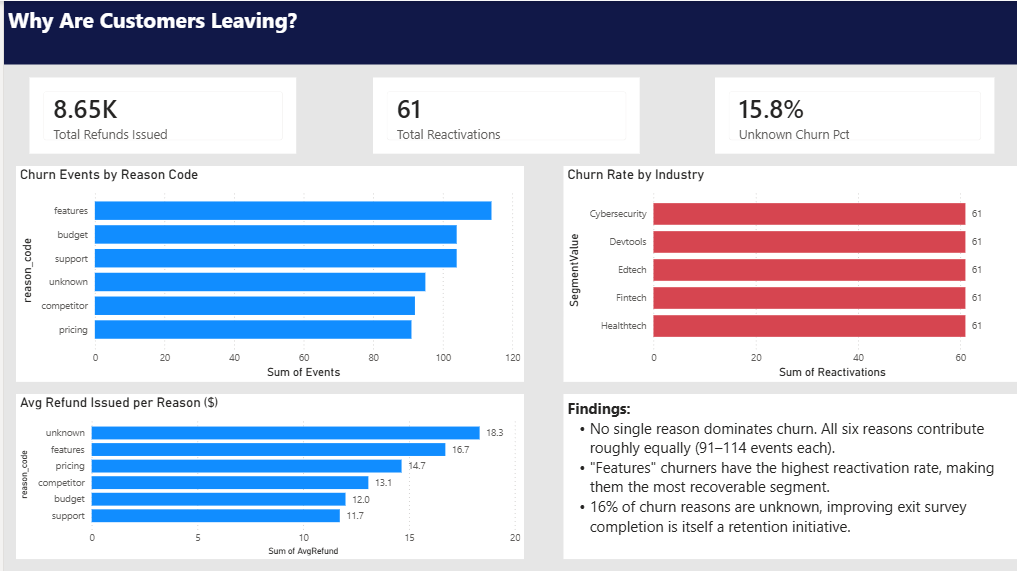

The page's visual inventory and layout, read from the dashboard file:
{"tool":"powerbi","page":{"name":"Churn Reasons","canvas":[1280,720],"ordinal":4},"visuals":[{"type":"textbox","box":[0,0,1280,80],"z":0},{"type":"clusteredBarChart","title":"Churn Events by Reason Code","fields":{"Category":["churn_reason_summary.reason_code"],"Y":["Sum(churn_reason_summary.Events)"]},"box":[16,208,640,272],"z":1000},{"type":"clusteredBarChart","title":"Churn Rate by Industry","fields":{"Category":["segment_summary.SegmentValue"],"Y":["Sum(churn_reason_summary.Reactivations)"]},"box":[704,208,576,272],"z":2000},{"type":"cardVisual","fields":{"Data":["churn_heatmap.Total Refunds Issued"]},"box":[32,96,336,96],"z":3000},{"type":"cardVisual","fields":{"Data":["churn_heatmap.Total Reactivations"]},"box":[464,96,336,96],"z":4000},{"type":"cardVisual","fields":{"Data":["churn_heatmap.Unknown Churn Pct"]},"box":[896,96,352,96],"z":5000},{"type":"clusteredBarChart","title":"Avg Refund Issued per Reason ($)","fields":{"Category":["churn_reason_summary.reason_code"],"Y":["Sum(churn_reason_summary.AvgRefund)"]},"box":[16,496,640,208],"z":6000},{"type":"textbox","box":[704,496,576,208],"z":7000}]}

Visuals, with their boxes in screenshot pixels (x1, y1, x2, y2), scaled from the page's 1280x720 canvas onto the 1017x571 screenshot:
textbox: {"x1": 0, "y1": 0, "x2": 1016, "y2": 63}
"Churn Events by Reason Code" clusteredBarChart: {"x1": 13, "y1": 165, "x2": 521, "y2": 381}
"Churn Rate by Industry" clusteredBarChart: {"x1": 559, "y1": 165, "x2": 1016, "y2": 381}
cardVisual - churn_heatmap.Total Refunds Issued: {"x1": 25, "y1": 76, "x2": 292, "y2": 152}
cardVisual - churn_heatmap.Total Reactivations: {"x1": 369, "y1": 76, "x2": 636, "y2": 152}
cardVisual - churn_heatmap.Unknown Churn Pct: {"x1": 712, "y1": 76, "x2": 992, "y2": 152}
"Avg Refund Issued per Reason ($)" clusteredBarChart: {"x1": 13, "y1": 393, "x2": 521, "y2": 558}
textbox: {"x1": 559, "y1": 393, "x2": 1016, "y2": 558}
